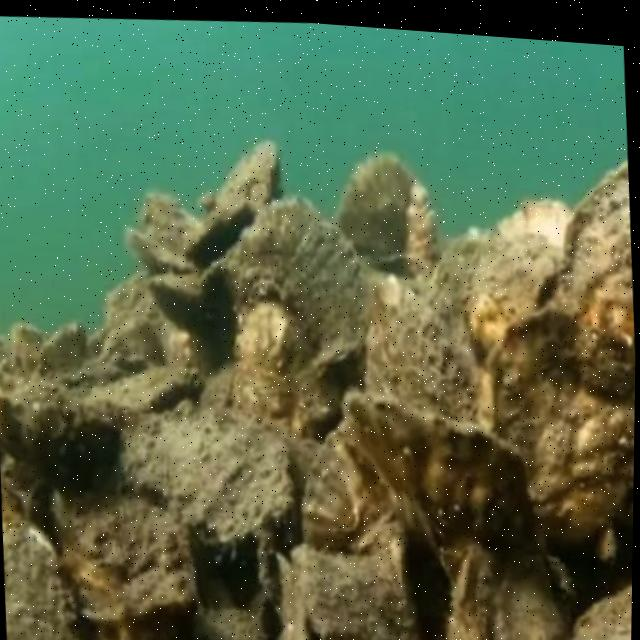Oyster-Indeterminate: (352, 385, 563, 640), (480, 310, 635, 563), (226, 205, 370, 378), (120, 407, 294, 542), (364, 269, 492, 424), (57, 489, 195, 623), (303, 531, 420, 640), (305, 428, 394, 571), (565, 169, 635, 349), (2, 507, 80, 640), (474, 235, 570, 343), (333, 155, 424, 266), (431, 234, 501, 343), (186, 202, 255, 260), (500, 199, 574, 252), (217, 141, 279, 204), (142, 194, 198, 260), (568, 588, 632, 640), (128, 231, 195, 279), (153, 275, 205, 333), (98, 322, 165, 363), (41, 324, 88, 368)
